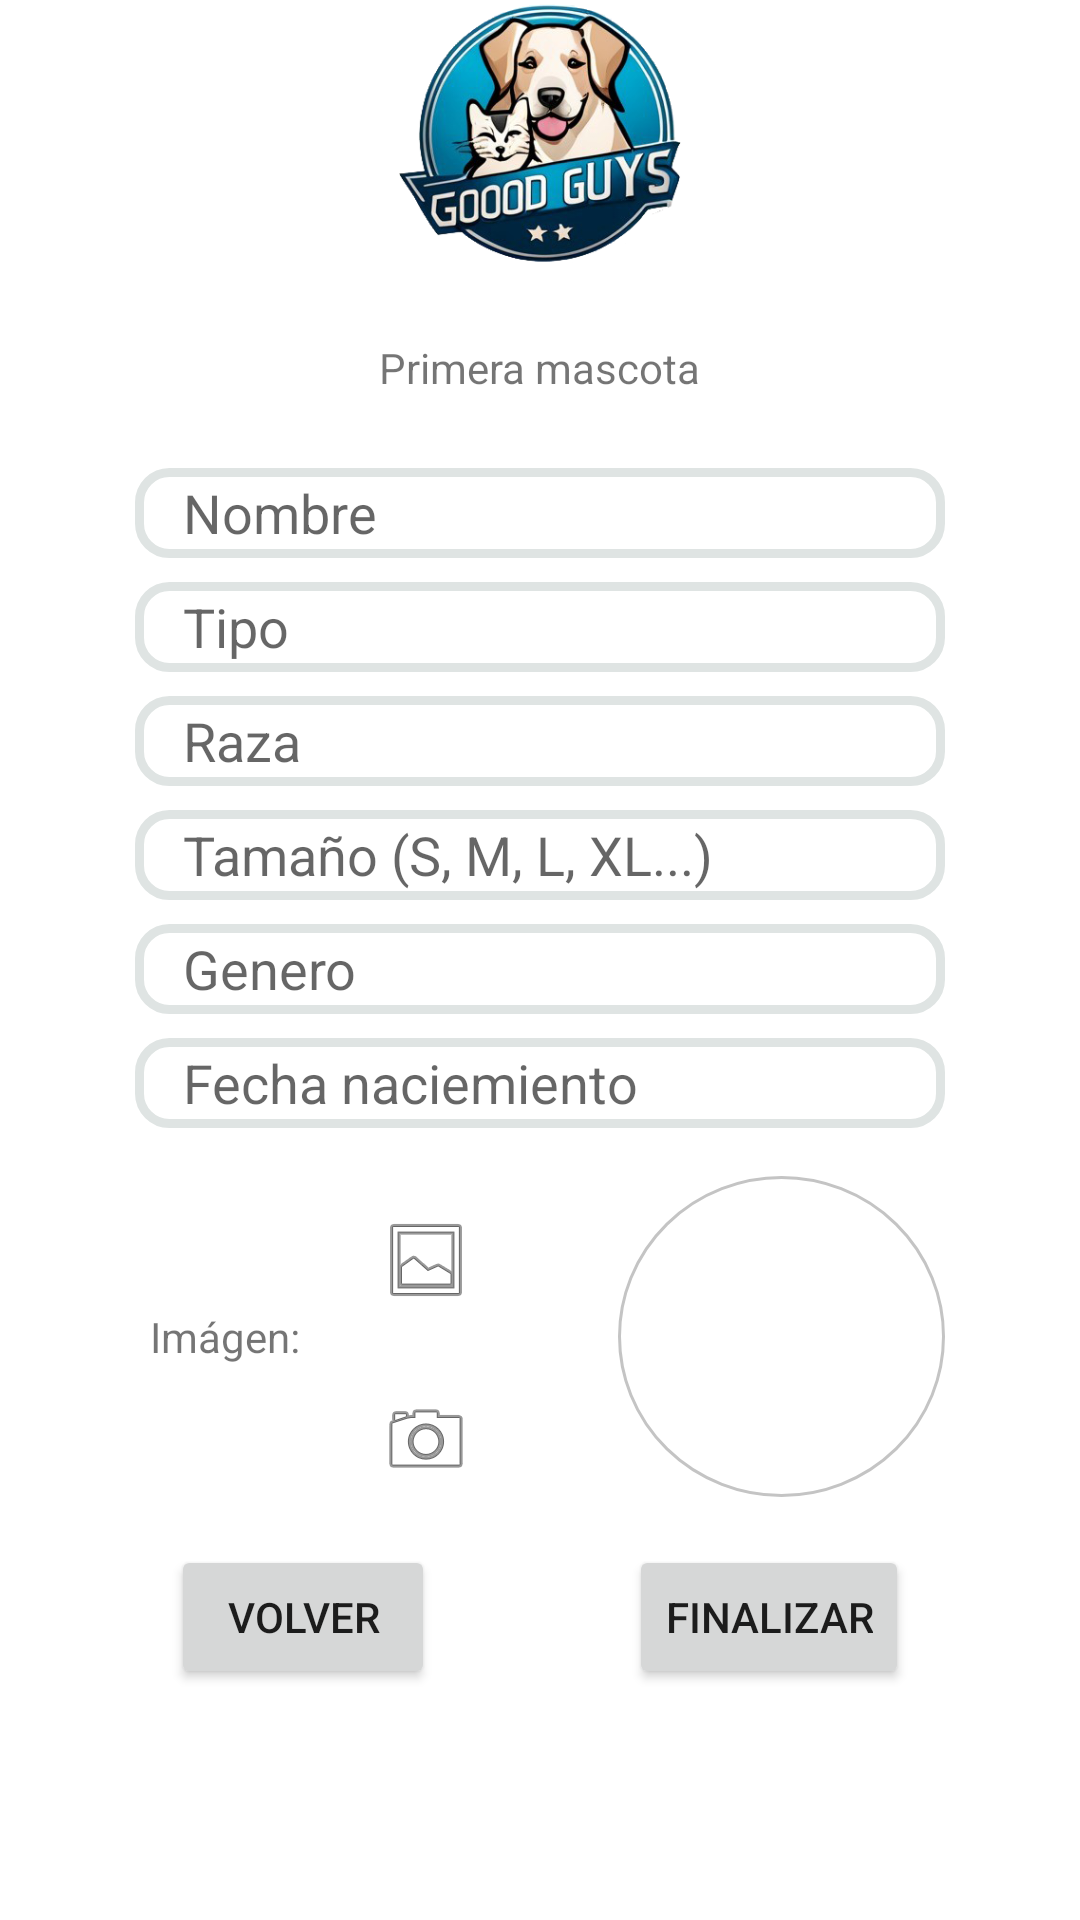

Icon click points for this 1080x1920 phone screenshot, format (x=x, y=y):
camera: (x=426, y=1438)
gallery: (x=426, y=1260)
